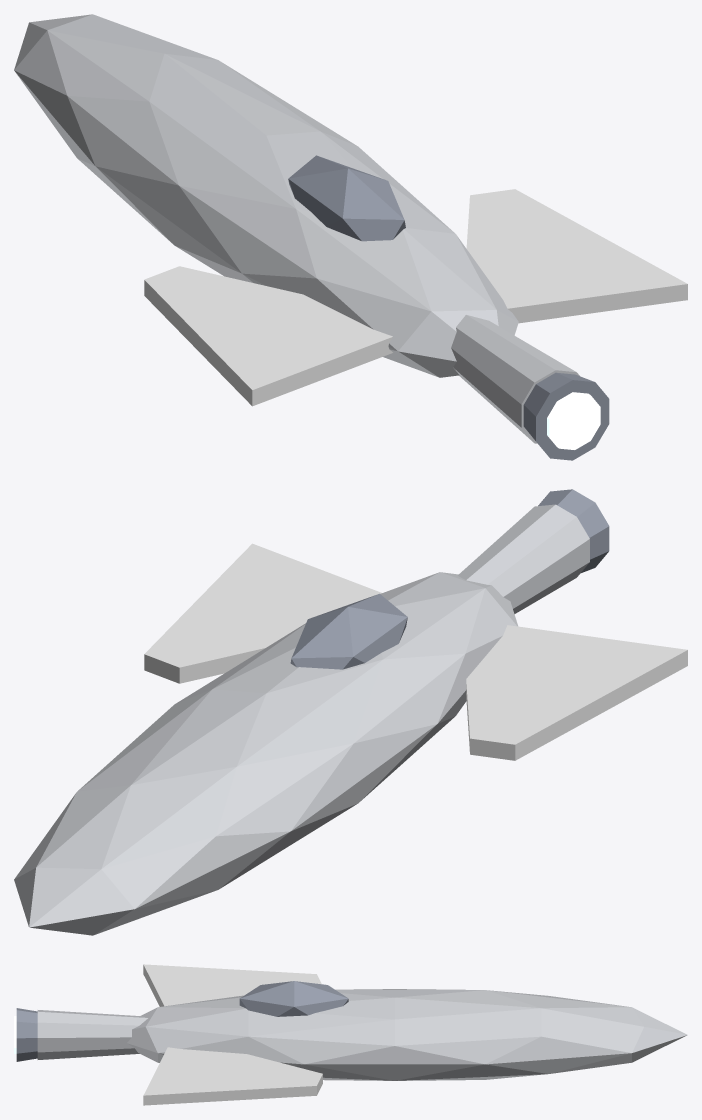
Rendered from vesskar_corvette_mk1.glb.
3 renders of one model, top to bottom at view 1: azimuth 30°, elevation 25°; view 2: azimuth 150°, elevation 25°; view 3: azimuth 270°, elevation 25°, orthographic. The views are drawn at different scales.
Parts seen in each view (by area): view 1: vesskar_corvette_mk1_LOD0; view 2: vesskar_corvette_mk1_LOD0; view 3: vesskar_corvette_mk1_LOD0.
Part boxes in pixels (box(x1,y1,x2,y2)): vesskar_corvette_mk1_LOD0: box(14, 14, 687, 460); vesskar_corvette_mk1_LOD0: box(14, 489, 687, 935); vesskar_corvette_mk1_LOD0: box(14, 964, 687, 1105).
Size of what is drawn, in the model's own units: 3.39 by 1.1 by 7.36.
